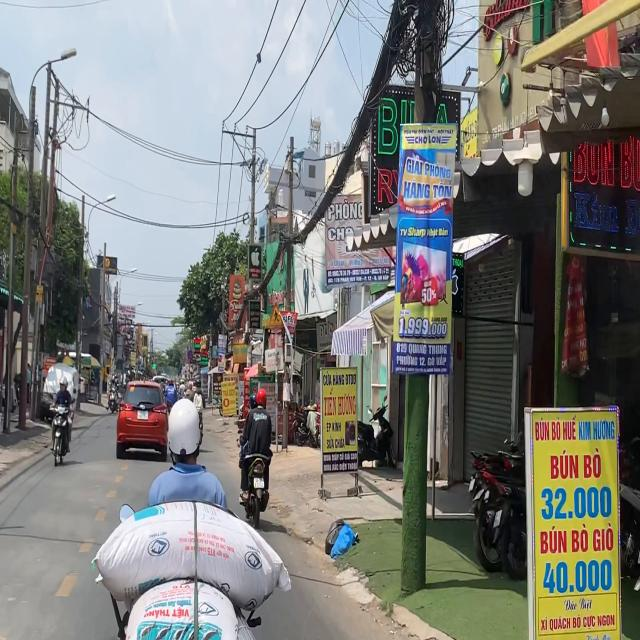Nguoi di bo cat ngang: (268, 302, 284, 328)
